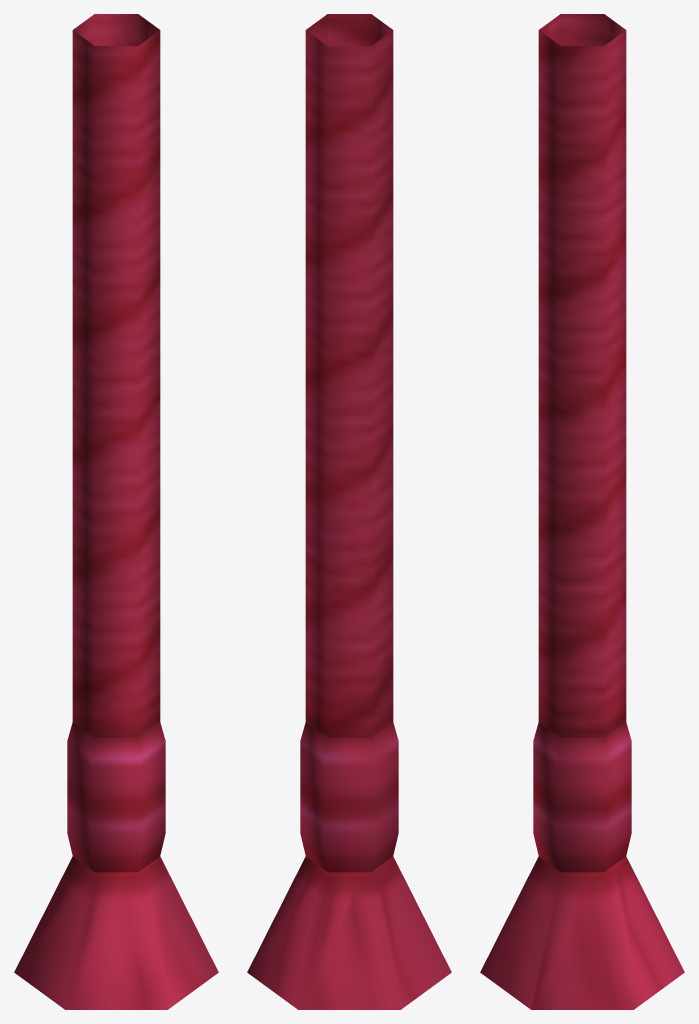
The model's file is shengzi03.FBX.
3 views of the same model, side by side, from view 1: azimuth 30°, elevation 25°; view 2: azimuth 150°, elevation 25°; view 3: azimuth 270°, elevation 25° (orthographic).
Parts seen in each view (by area): view 1: objshengsuo02_xia; view 2: objshengsuo02_xia; view 3: objshengsuo02_xia.
Boxes of the visible parts, x1,y1,x2,y2 form: objshengsuo02_xia: (14,14,218,1009); objshengsuo02_xia: (247,14,451,1009); objshengsuo02_xia: (480,14,684,1009).
Bounding box in the file's own units: 0.7652 × 4.49 × 0.8836.
